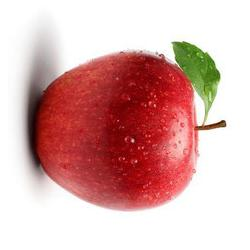apple: (0, 0, 250, 250)
